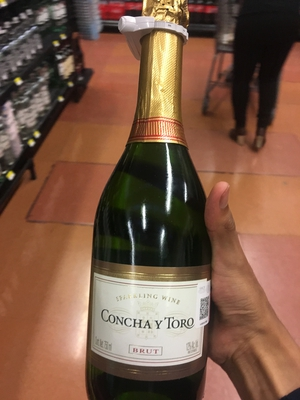brut: (84, 18, 223, 398)
